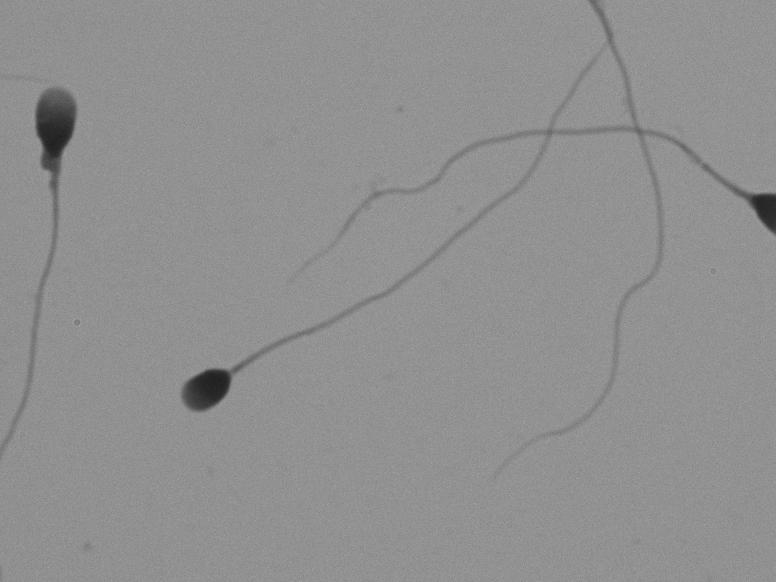Abnormal: (13, 45, 109, 406)
Normal: (126, 87, 574, 454)
